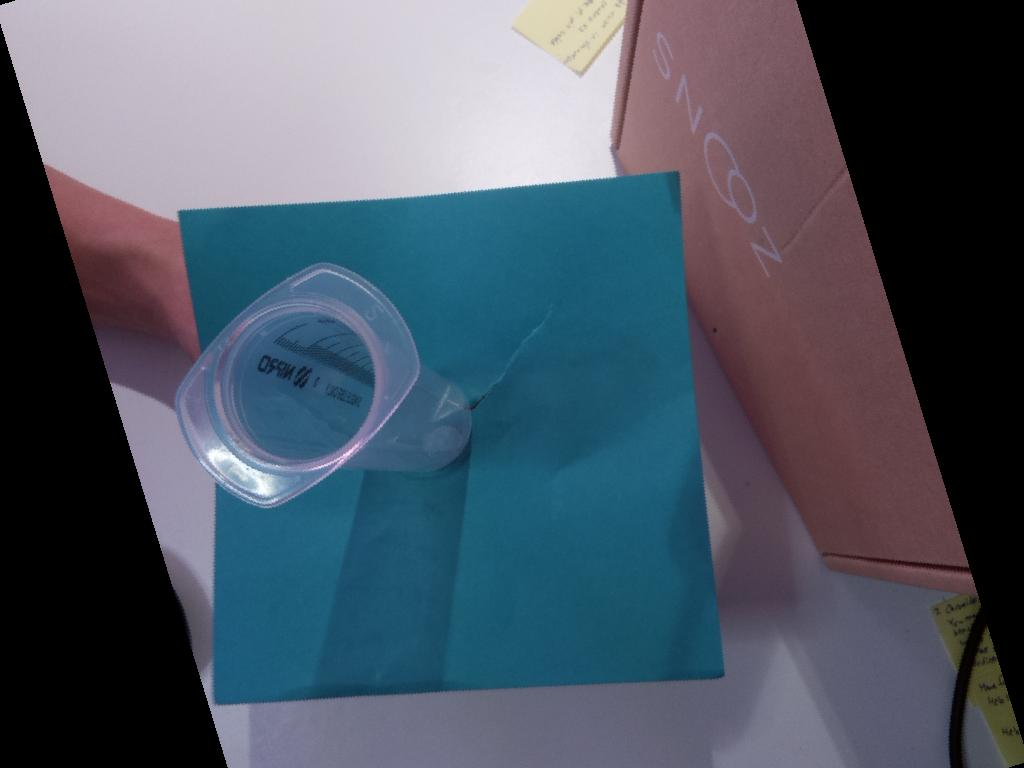clean: (173, 263, 423, 507)
